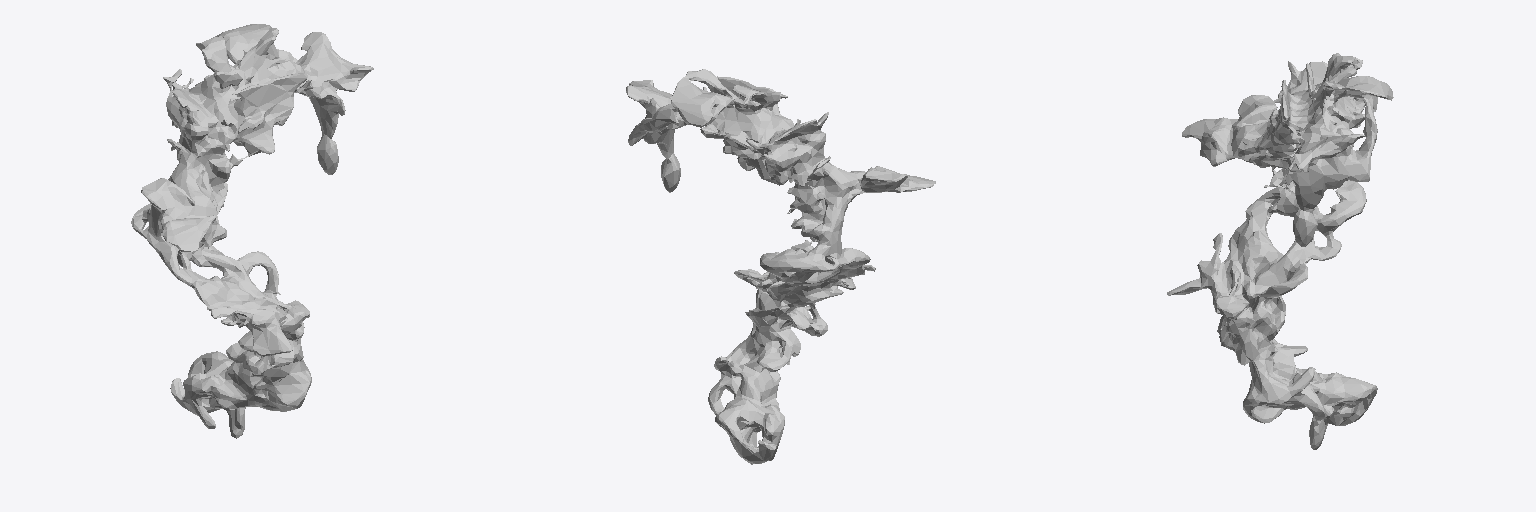
File: ff3df1162cfd_a_sprawling_dark_re.obj
The picture shows the model from 3 angles: view 1: azimuth 30°, elevation 25°; view 2: azimuth 150°, elevation 25°; view 3: azimuth 270°, elevation 25°; orthographic projection.
Visible parts, largest first — view 1: mesh; view 2: mesh; view 3: mesh.
Part boxes in pixels (x1,y1,x2,y2): mesh: (131, 24, 373, 438); mesh: (626, 69, 935, 464); mesh: (1167, 53, 1393, 449).
Bounding box in the file's own units: 0.6859 × 1 × 0.5282.